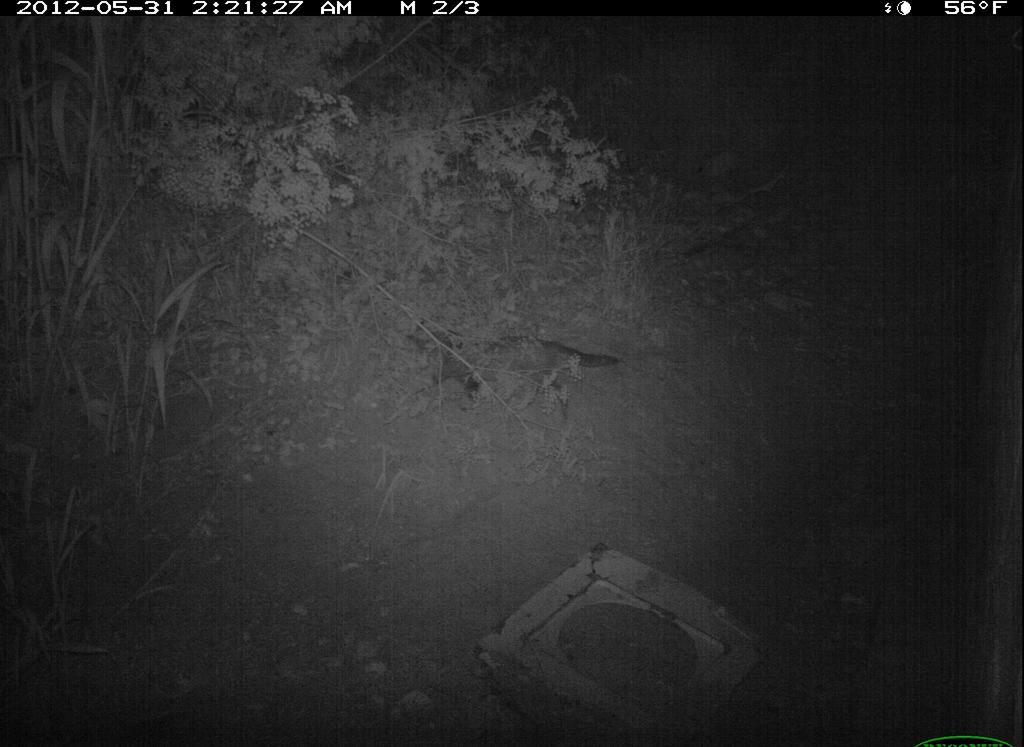cat: (402, 314, 630, 440)
